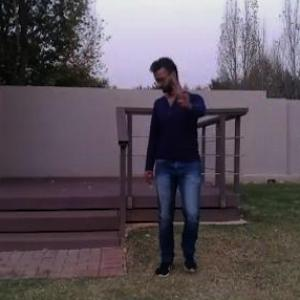takeoff-hand: (170, 74, 197, 109)
